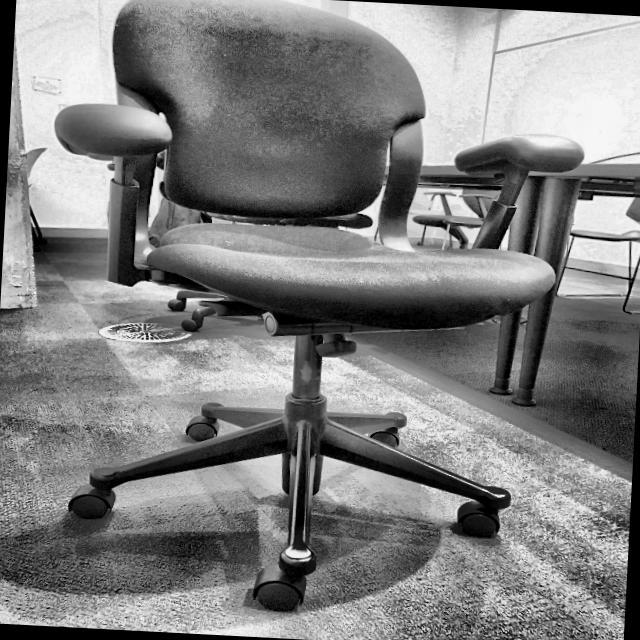chair: (25, 0, 572, 625)
